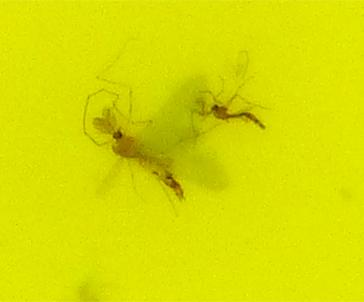Nematocera: (100, 126, 187, 202), (207, 100, 264, 134)
